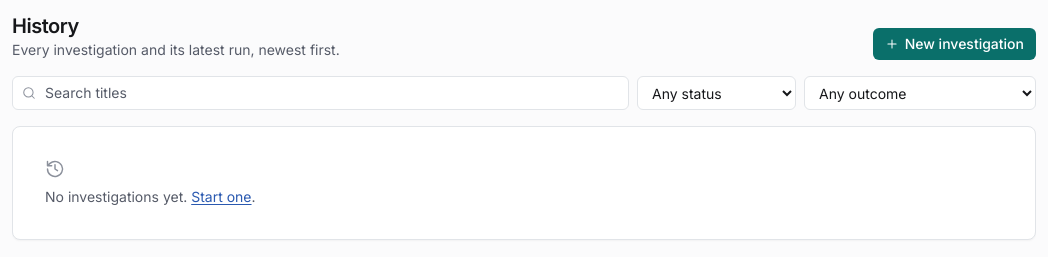
Test: the outcome filter is sent to the API, and Clear filters resets every filter
Select "no action needed" in the dropdown named "Outcome": (920, 93) [804,76,1036,110]
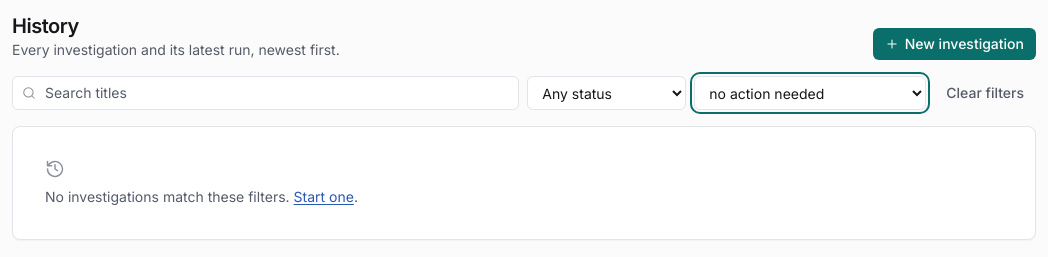
Select "completed" in the dropdown named "Status": (607, 93) [527,76,686,110]
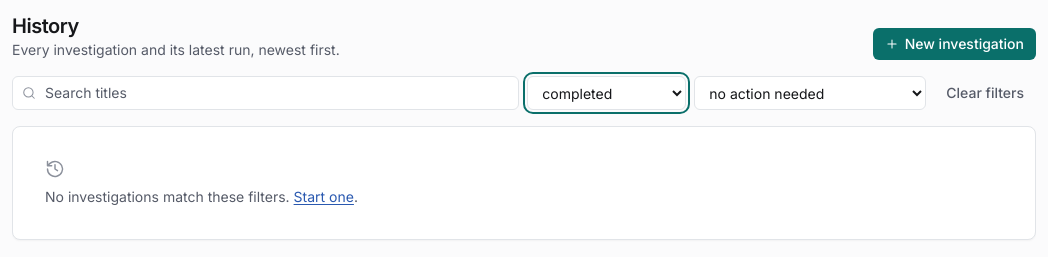
Now the text "No investigations match these filters. Start one ." is shown, box [45,187,358,207]
Click the button "Clear filters": click(985, 93) [934,76,1036,110]
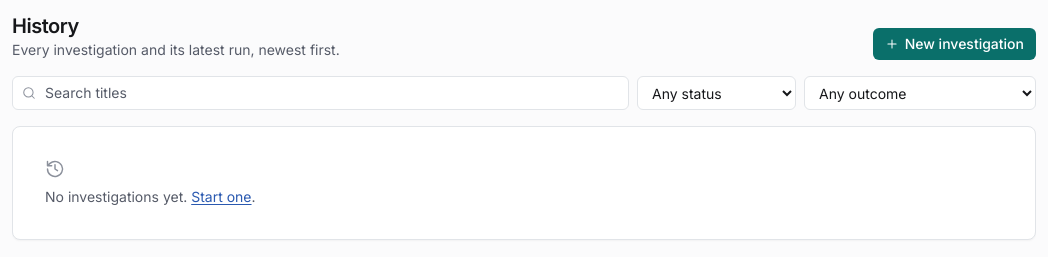
Now the button "Clear filters" is gone
